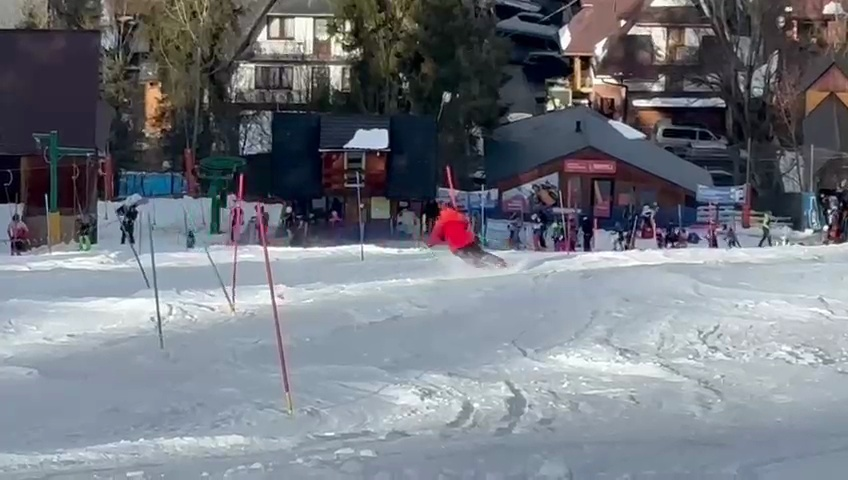gate: (252, 205, 306, 421), (193, 223, 233, 315), (113, 187, 147, 292), (144, 219, 170, 354), (224, 184, 251, 314), (350, 168, 369, 269)
